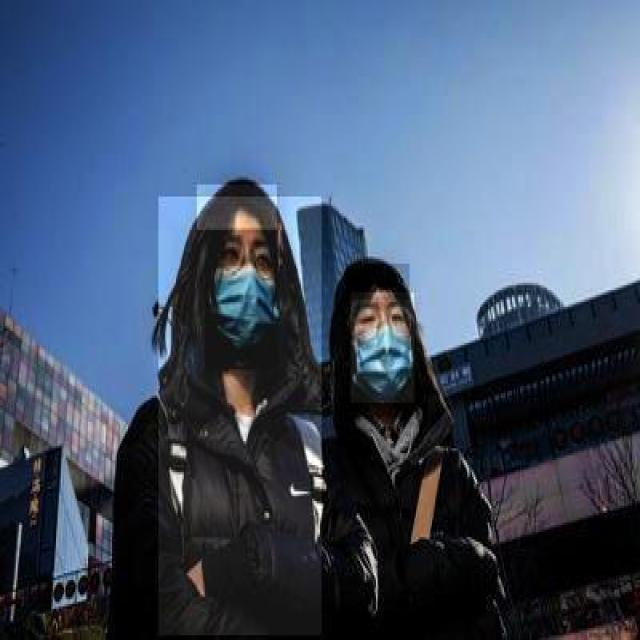face_mask: (205, 228, 278, 369), (350, 292, 414, 403)
glasses: (212, 243, 282, 280), (348, 298, 412, 337)
head_nohelmet: (197, 185, 278, 232), (346, 264, 410, 300)
person: (158, 197, 324, 638), (328, 242, 485, 638)
